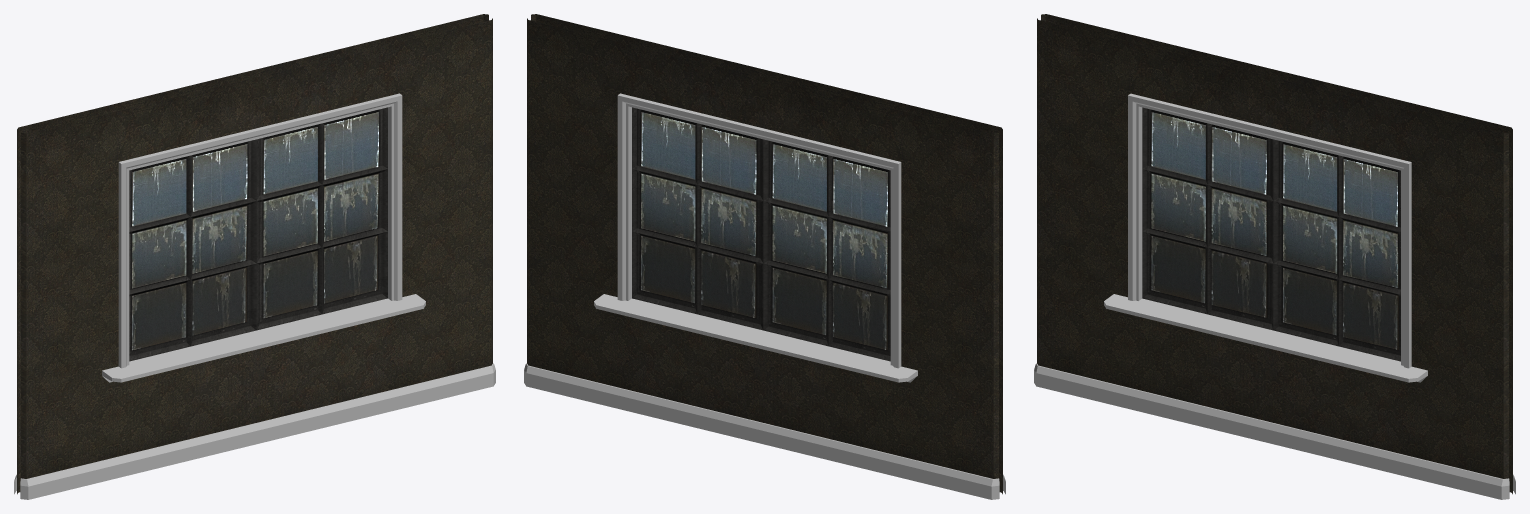
Rendered from window_2_2_double.fbx.
3 renders of one model, left to right at view 1: azimuth 30°, elevation 25°; view 2: azimuth 150°, elevation 25°; view 3: azimuth 330°, elevation 25°, orthographic.
Parts seen in each view (by area): view 1: window_2_2_double; view 2: window_2_2_double; view 3: window_2_2_double.
Boxes of the visible parts, <box> form: window_2_2_double: <box>14,14,495,499</box>; window_2_2_double: <box>524,14,1005,499</box>; window_2_2_double: <box>1034,14,1515,499</box>.
Size of the model in its own units: 4.09 by 0.52 by 3.
